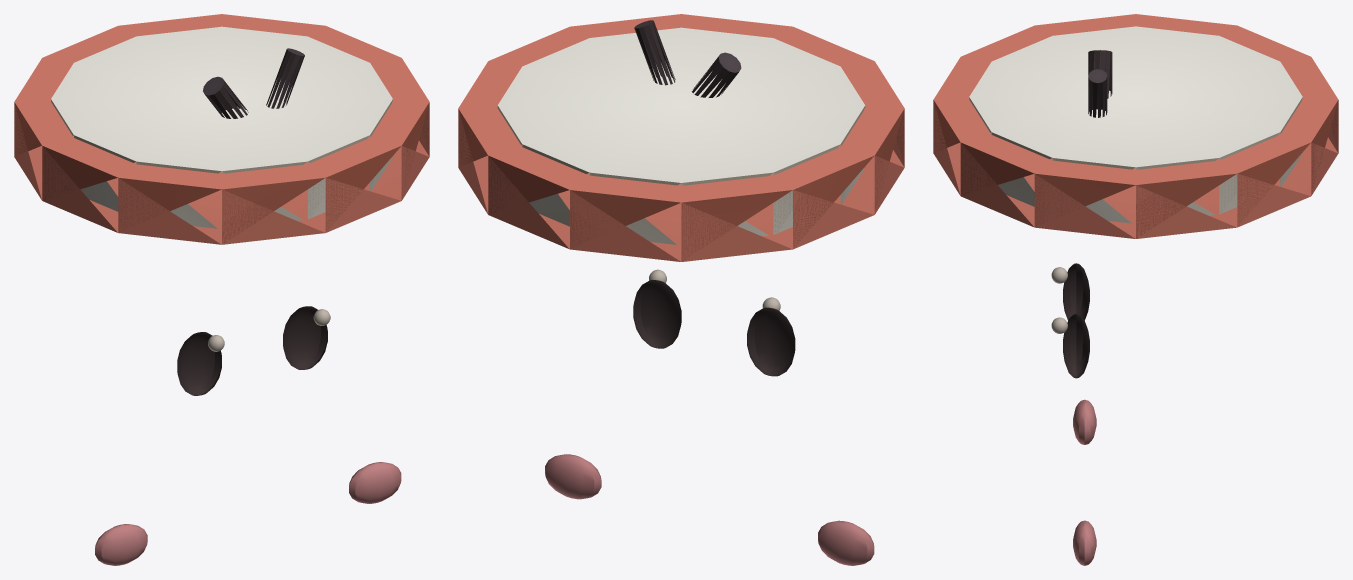
3 views of the same model, side by side, from view 1: azimuth 30°, elevation 25°; view 2: azimuth 150°, elevation 25°; view 3: azimuth 270°, elevation 25° (orthographic). The views are drawn at different scales.
Visible parts, largest first — view 1: pet_p8ad4b659; view 2: pet_p8ad4b659; view 3: pet_p8ad4b659.
Part boxes in pixels (x1,y1,x2,y2): pet_p8ad4b659: (14,14,429,565); pet_p8ad4b659: (458,14,904,565); pet_p8ad4b659: (933,14,1338,565).
Bounding box in the file's own units: 0.34 × 0.4214 × 0.34.
